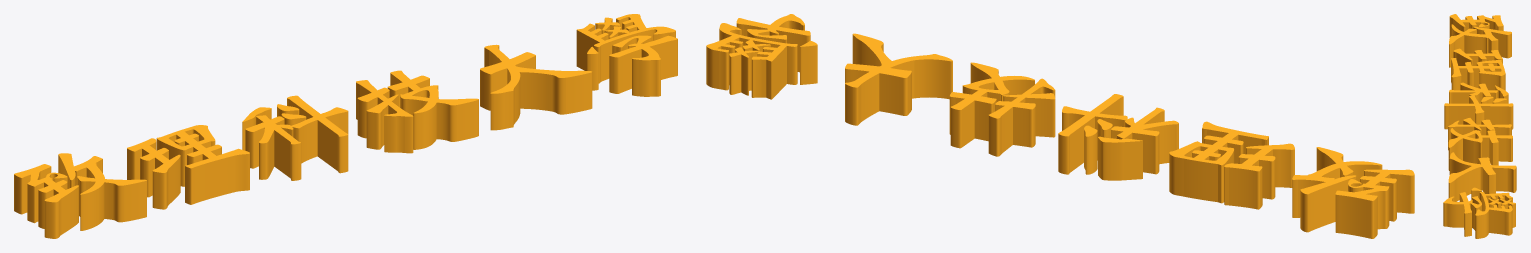
File: CHIHLEE-01.FBX
3 views of the same model, side by side, from view 1: azimuth 30°, elevation 25°; view 2: azimuth 150°, elevation 25°; view 3: azimuth 270°, elevation 25° (orthographic). The views are drawn at different scales.
Visible parts, largest first — view 1: Text003; view 2: Text003; view 3: Text003.
Boxes of the visible parts, x1,y1,x2,y2 form: Text003: (14, 14, 677, 238); Text003: (706, 14, 1414, 238); Text003: (1443, 14, 1516, 238).
Bounding box in the file's own units: 463 × 25 × 70.94.
